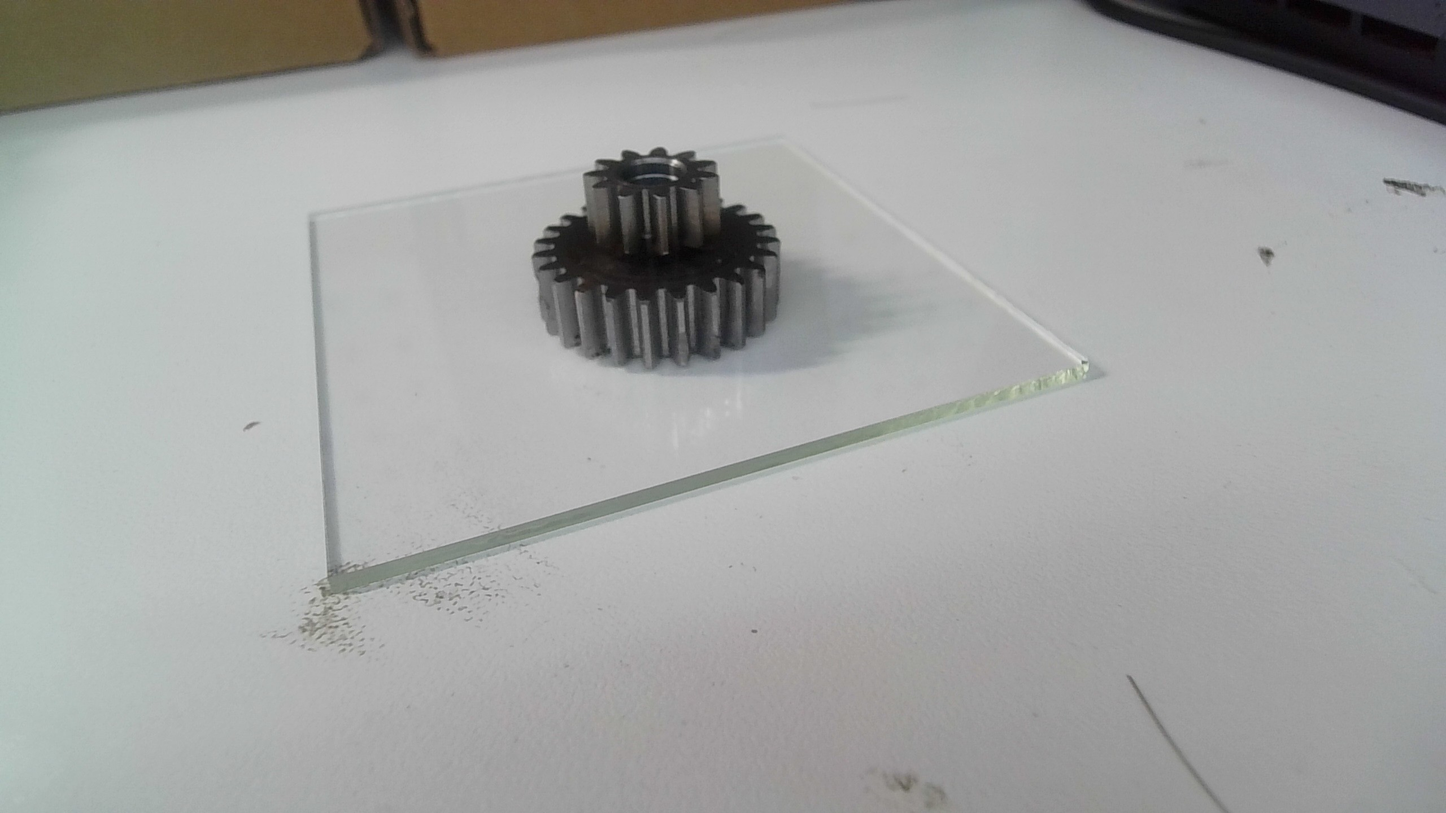gear: (529, 145, 785, 377)
